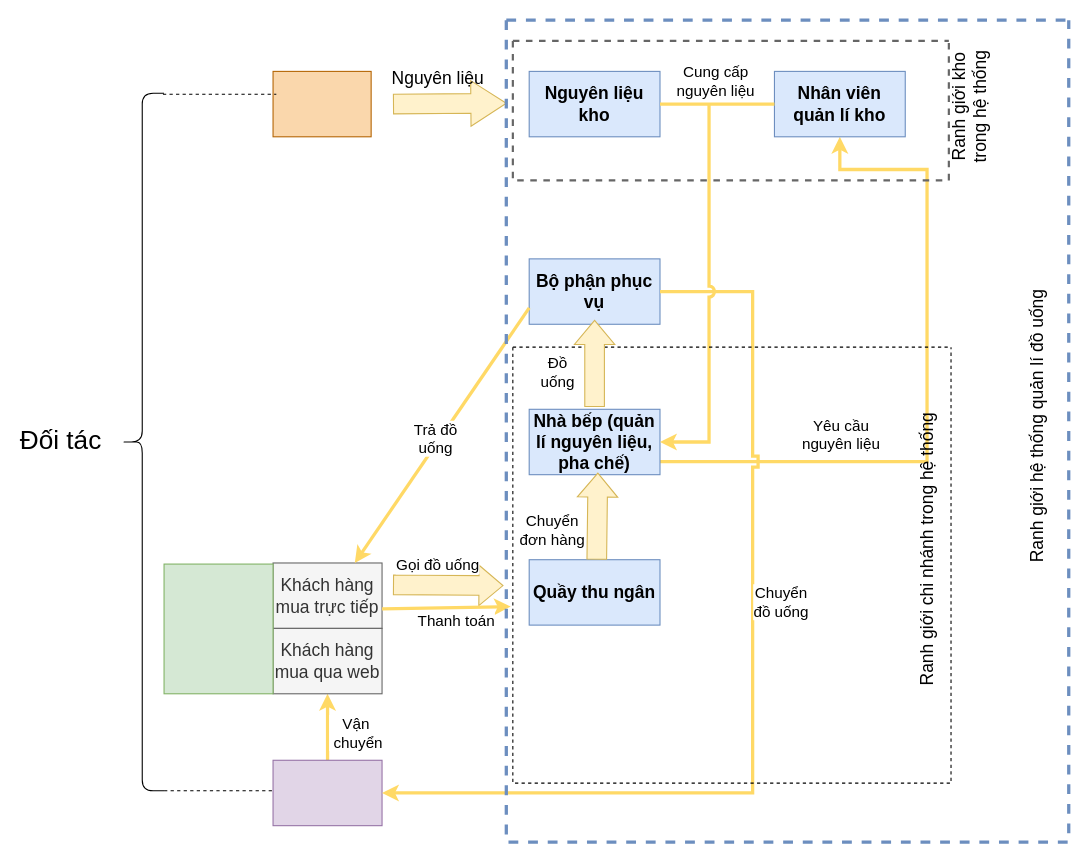
Image size: 1089x862. Some labels were removed from this diagram. The shapes that lost their labels are listed below. From the top down, each one's centre as x and y in pixels, then its label:
At pixel 321 103: "Nhà cung cấp".
At pixel 218 628: "Khách hàng".
At pixel 327 792: "Đối tác vận chuyển".
